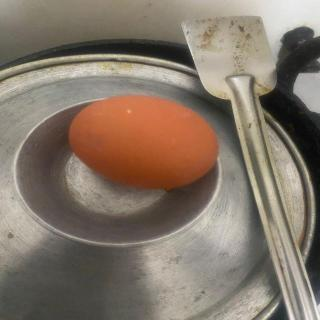Telur: (70, 93, 225, 192)
